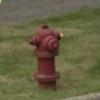Hydrant: (21, 15, 71, 88)
